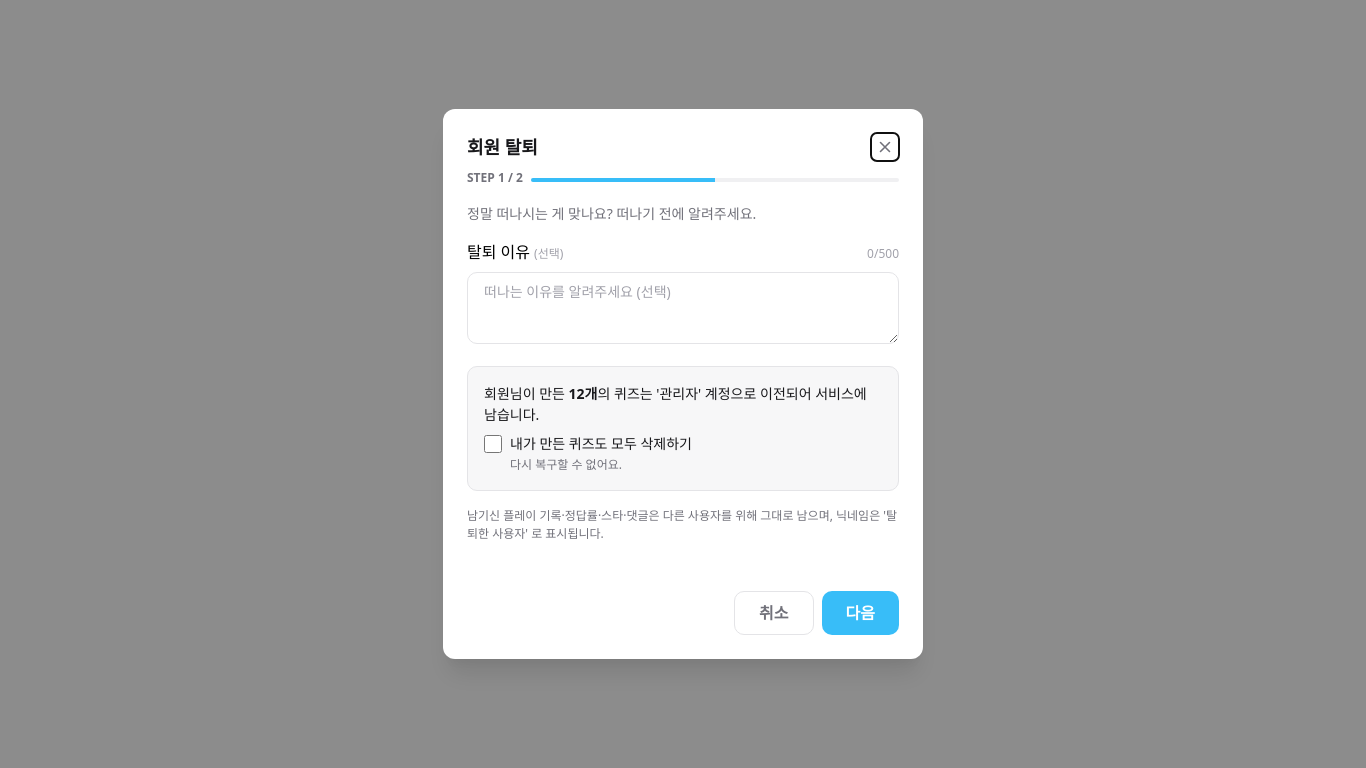
Scenario: WithdrawConfirmModal › Step 2 → Step 1 (이전) › step 1 에서 입력한 reasonText 가 이전 후에도 보존된다
Type "서비스가 불편해요" into the text box named "탈퇴 이유" at point(683, 308), box [467,272,899,344]
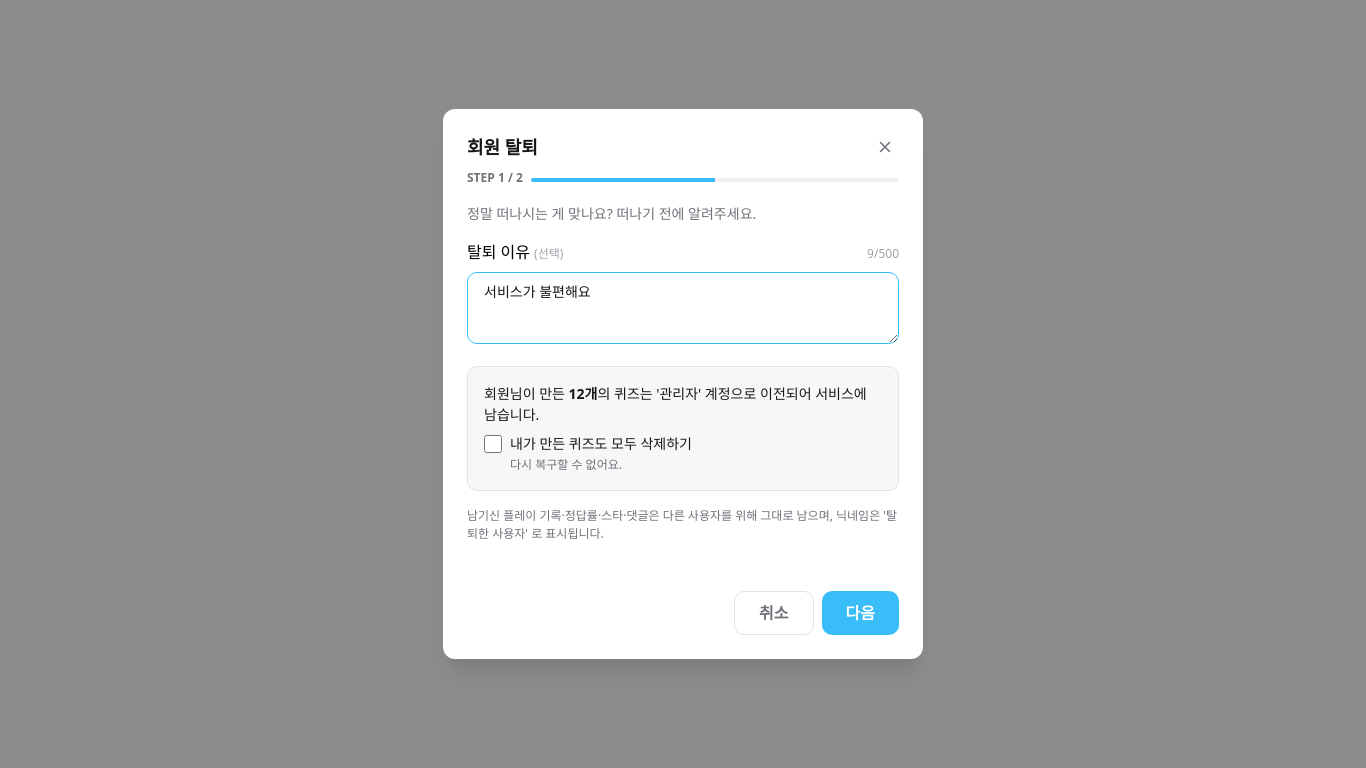
Click the button "다음" at point(860, 613), box [822,591,899,635]
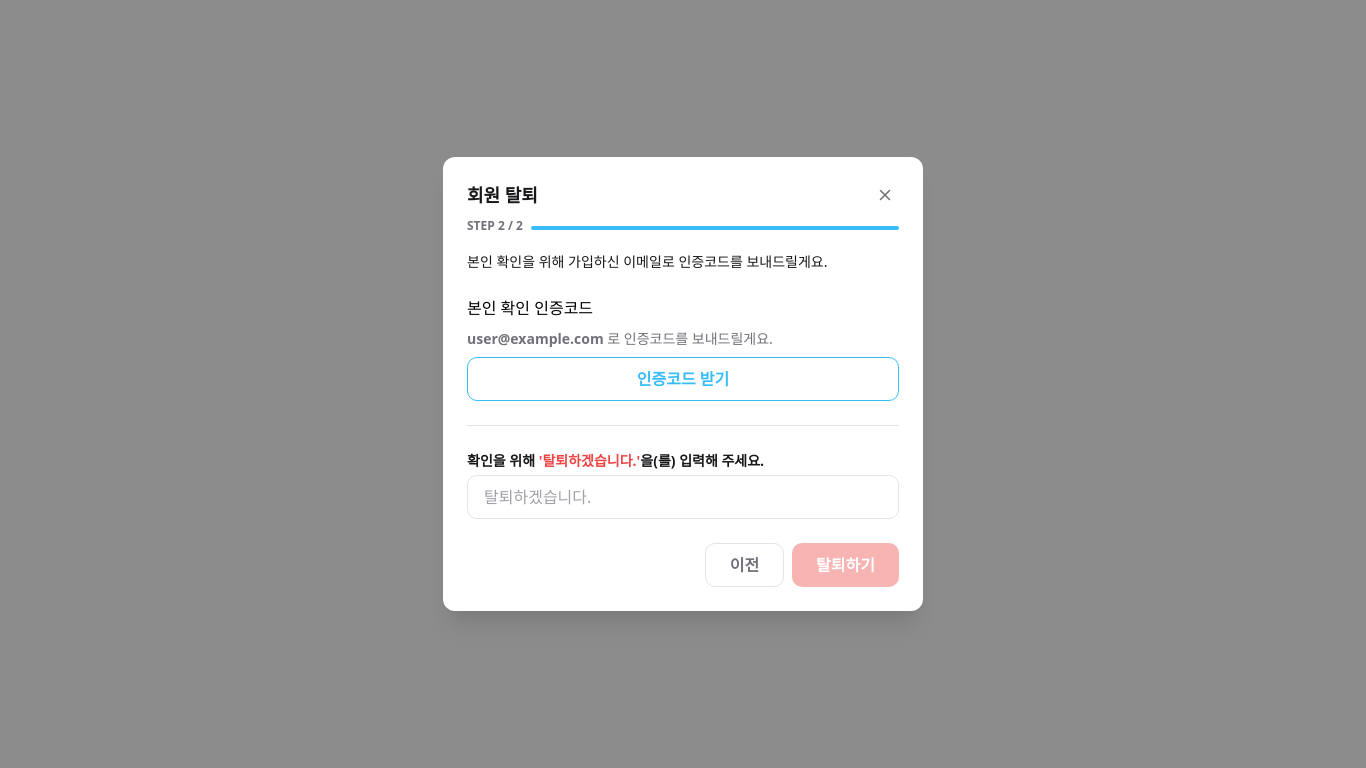
Click the button "이전" at point(744, 565), box [705,543,784,587]
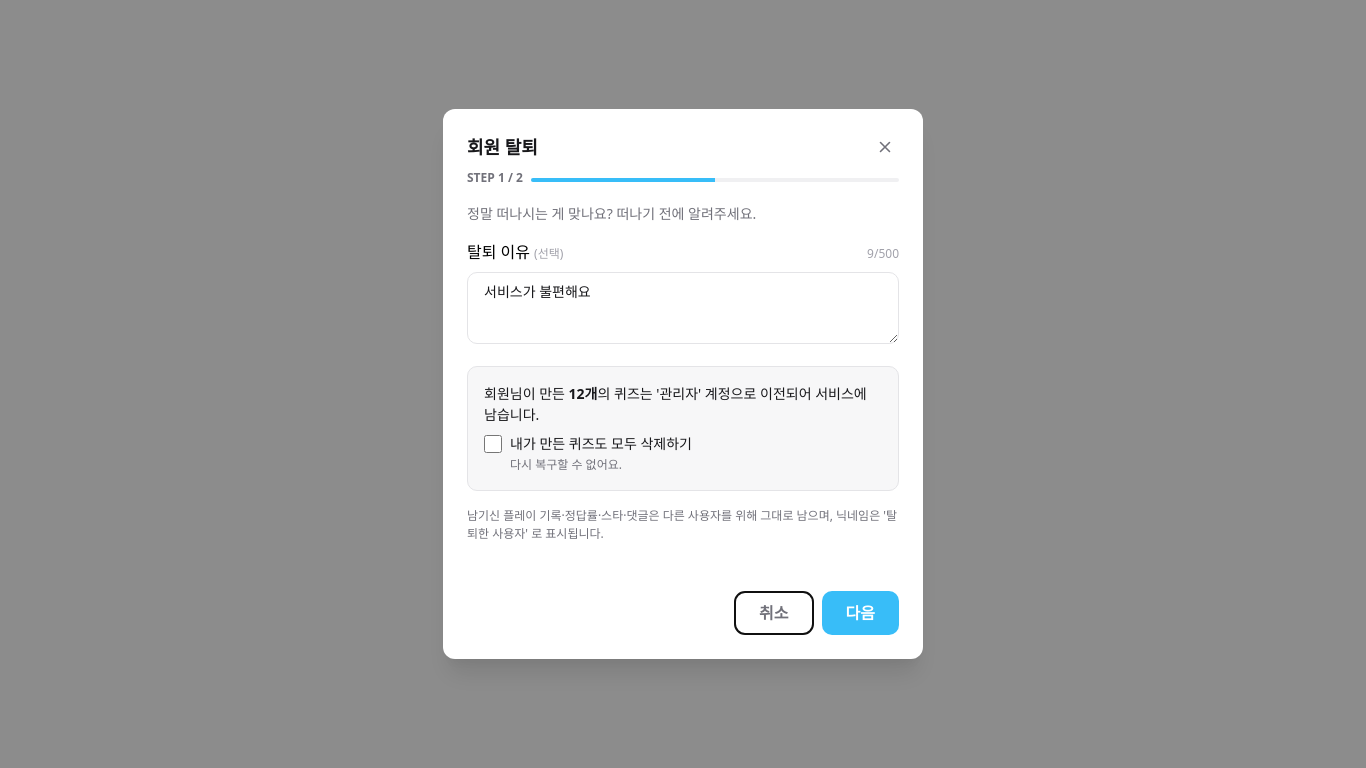
Expected: the text box named "탈퇴 이유" holds "서비스가 불편해요", [467,272,899,344]
